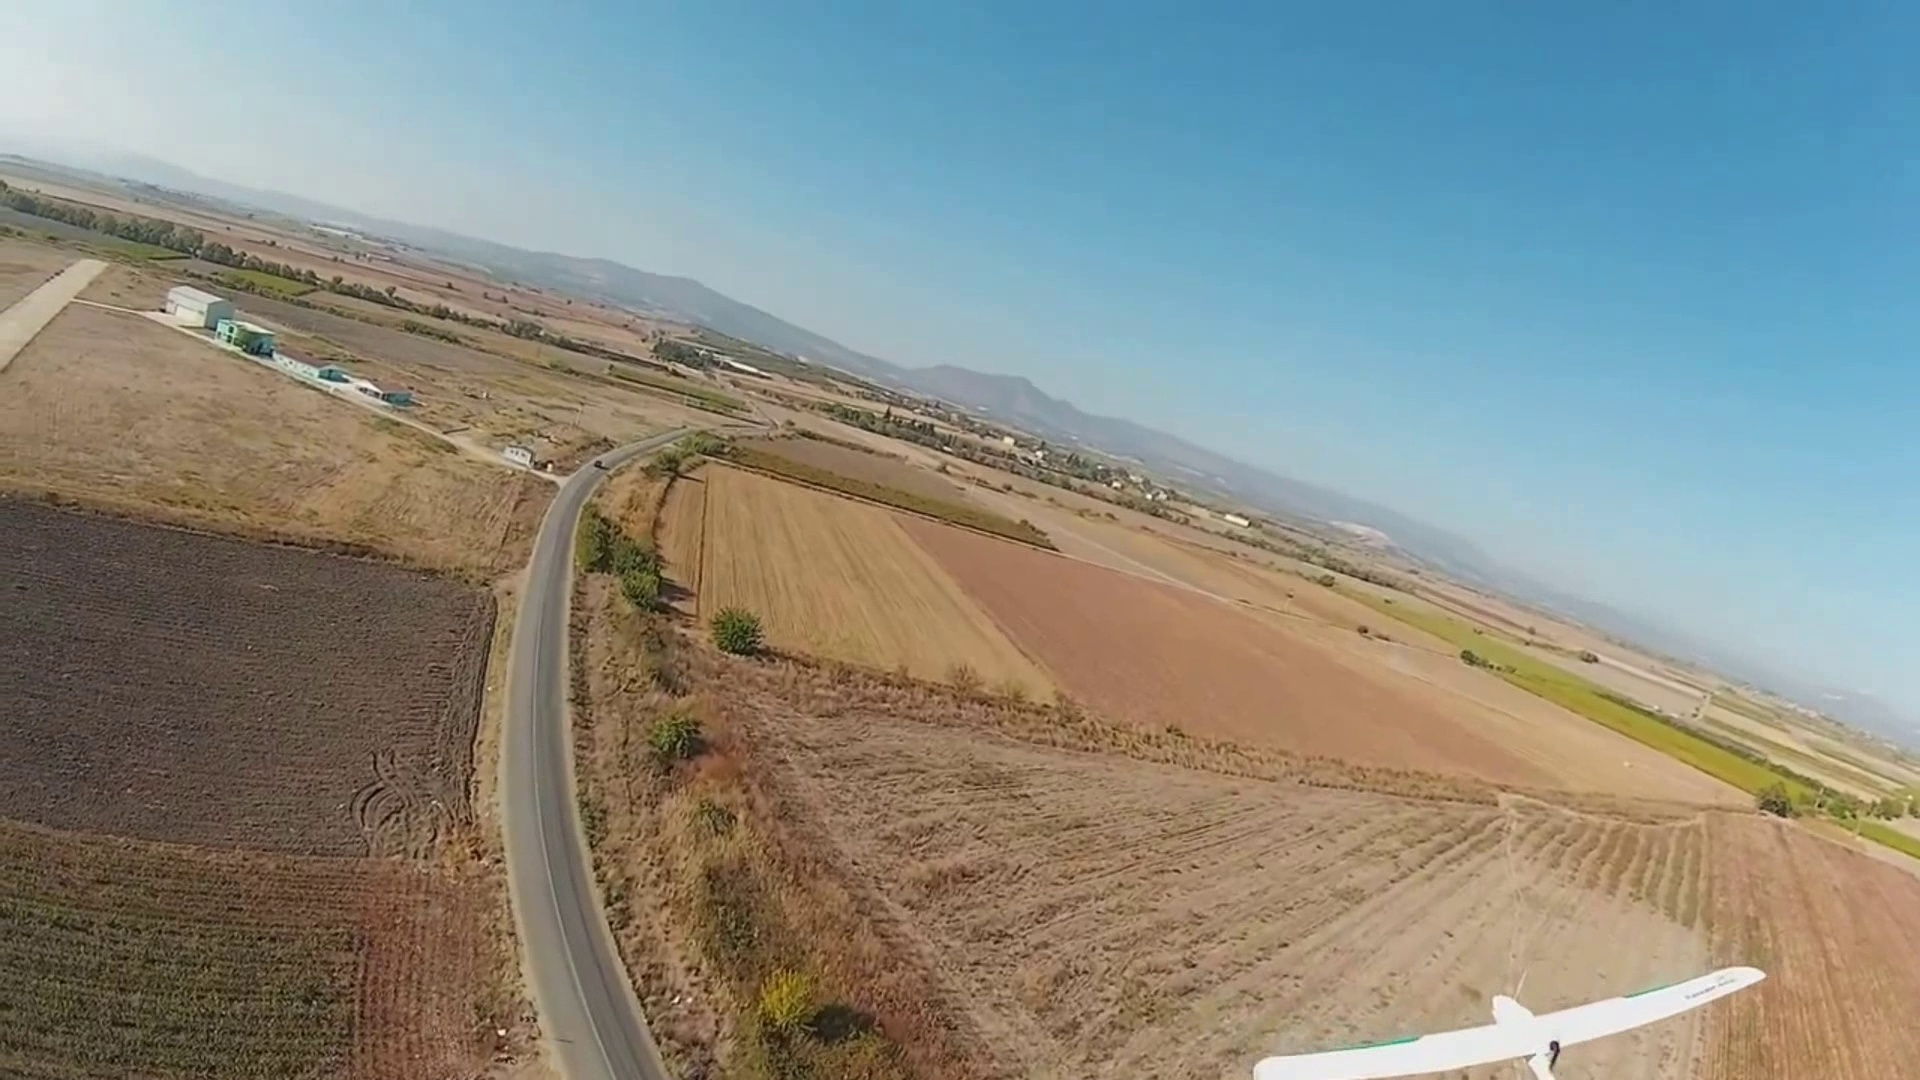airplane: (1248, 963, 1767, 1079)
